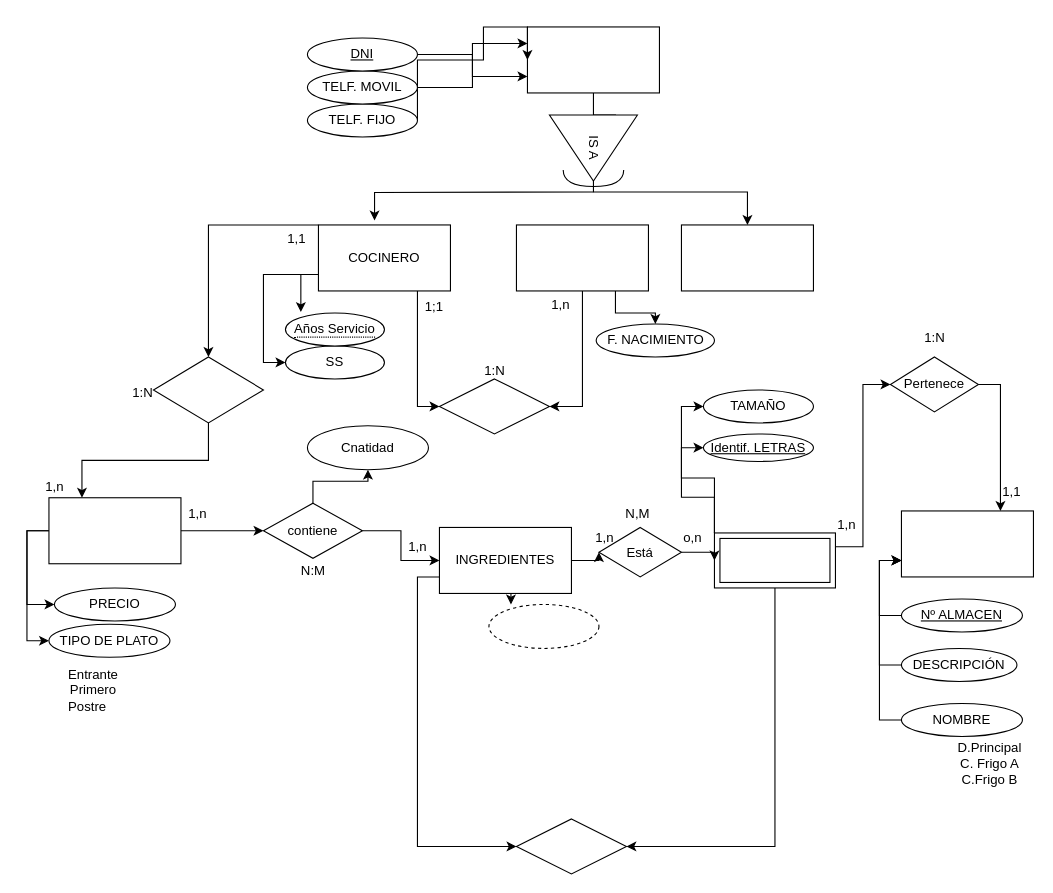
Some shapes in this 1053 by 893 pixel diagram are drawn without their labels. The centre of each missing label's shape, as x and y in pixels:
"ALMACEN" goes at (966,543).
"cantidad total" goes at (543,625).
"EMPLEADO" goes at (592,59).
"ESTANTE" goes at (774,560).
"Está a Cargo" goes at (493,406).
"OTROS" goes at (746,257).
"PINCHES" goes at (581,257).
"PLATO" goes at (114,530).
"Sabe Hacer" goes at (207,389).
"Tiene" goes at (570,846).
